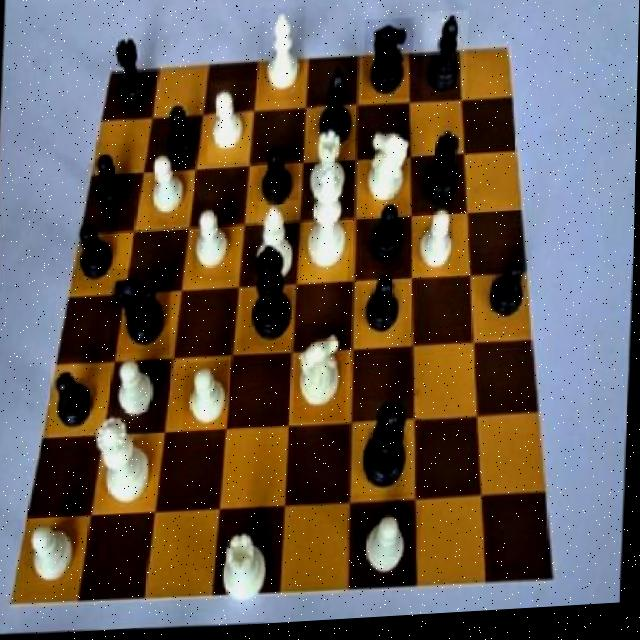bishop: (421, 15, 467, 107), (316, 70, 361, 161)
black-bishop: (242, 244, 300, 357)
black-king: (110, 269, 174, 361), (362, 22, 415, 106)
black-knight: (487, 250, 533, 345), (89, 141, 137, 230), (363, 198, 415, 279), (53, 355, 98, 447), (363, 273, 407, 354), (75, 217, 119, 293), (160, 99, 203, 175), (256, 147, 300, 220)
black-pawn: (353, 403, 422, 502)
black-queen: (416, 129, 465, 214), (109, 31, 155, 116)
black-rook: (257, 9, 306, 107), (257, 203, 301, 292)
white-bishop: (302, 174, 352, 289)
white-king: (295, 325, 351, 426), (366, 132, 414, 223)
white-knight: (364, 511, 424, 594), (26, 517, 83, 599), (413, 195, 464, 281), (209, 82, 255, 166), (192, 202, 238, 285), (185, 362, 236, 436), (116, 354, 161, 436), (150, 154, 191, 229)
white-pawn: (91, 409, 159, 518)
white-queen: (220, 524, 277, 613), (307, 129, 357, 214)
